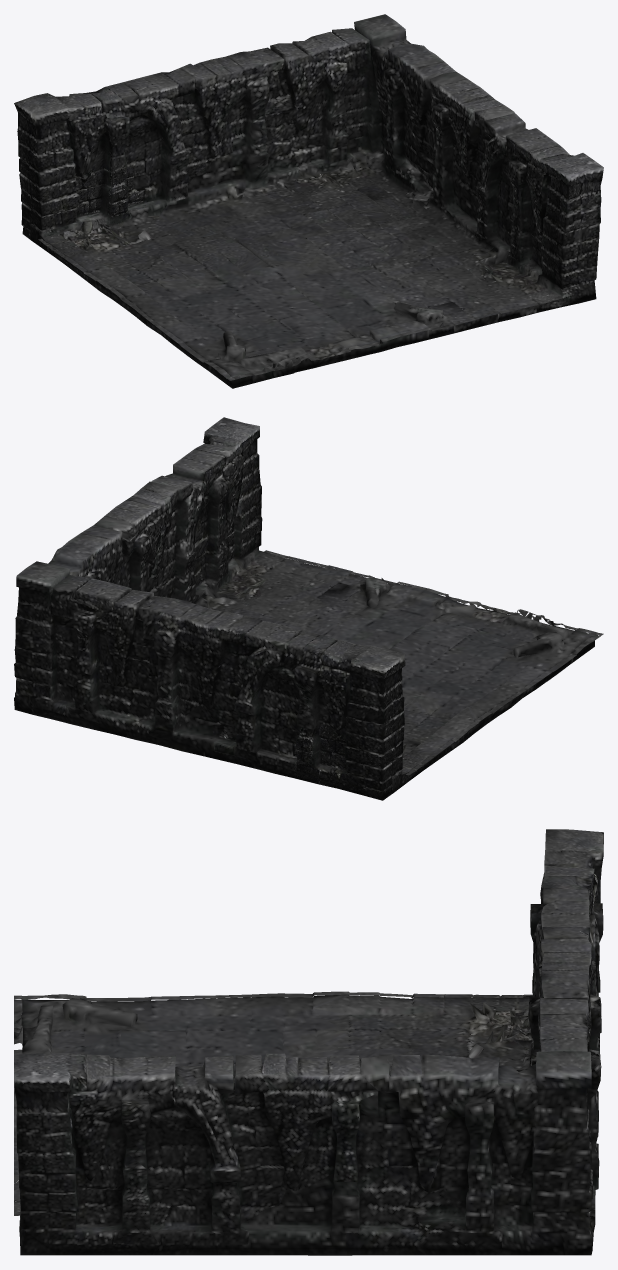
File: tile.2-corners.glb
3 renders of one model, top to bottom at view 1: azimuth 30°, elevation 25°; view 2: azimuth 150°, elevation 25°; view 3: azimuth 270°, elevation 25°, orthographic. The views are drawn at different scales.
Parts seen in each view (by area): view 1: tripo_node_3c69c12b-1312-413d-8599-f1a50d24dea6; view 2: tripo_node_3c69c12b-1312-413d-8599-f1a50d24dea6; view 3: tripo_node_3c69c12b-1312-413d-8599-f1a50d24dea6.
Boxes of the visible parts, box(x1,y1,x2,y2) form: tripo_node_3c69c12b-1312-413d-8599-f1a50d24dea6: box(14, 14, 603, 388); tripo_node_3c69c12b-1312-413d-8599-f1a50d24dea6: box(14, 417, 603, 800); tripo_node_3c69c12b-1312-413d-8599-f1a50d24dea6: box(14, 829, 603, 1255).
Bounding box in the file's own units: 0.9778 × 0.3376 × 0.9773.
Materials: 1 (1 with a texture image).
